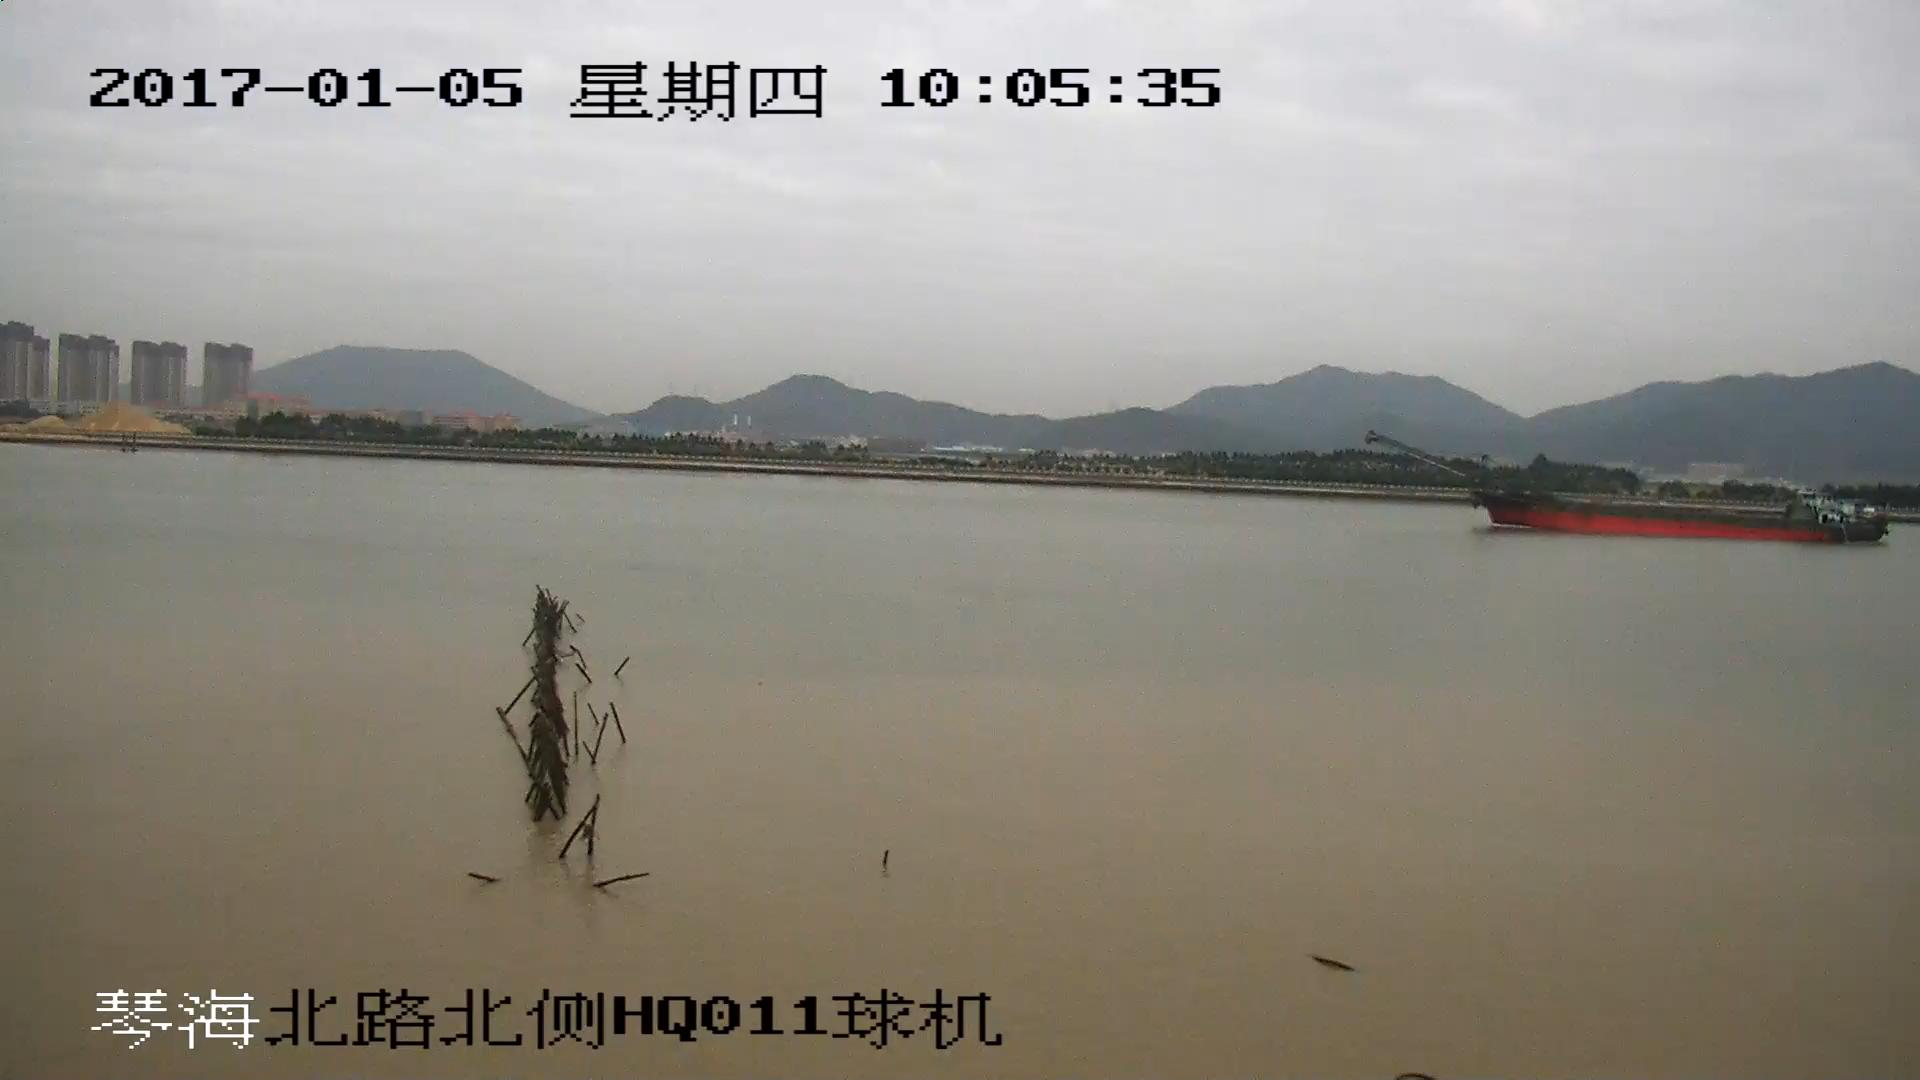bulk cargo carrier: (1369, 435, 1890, 542)
